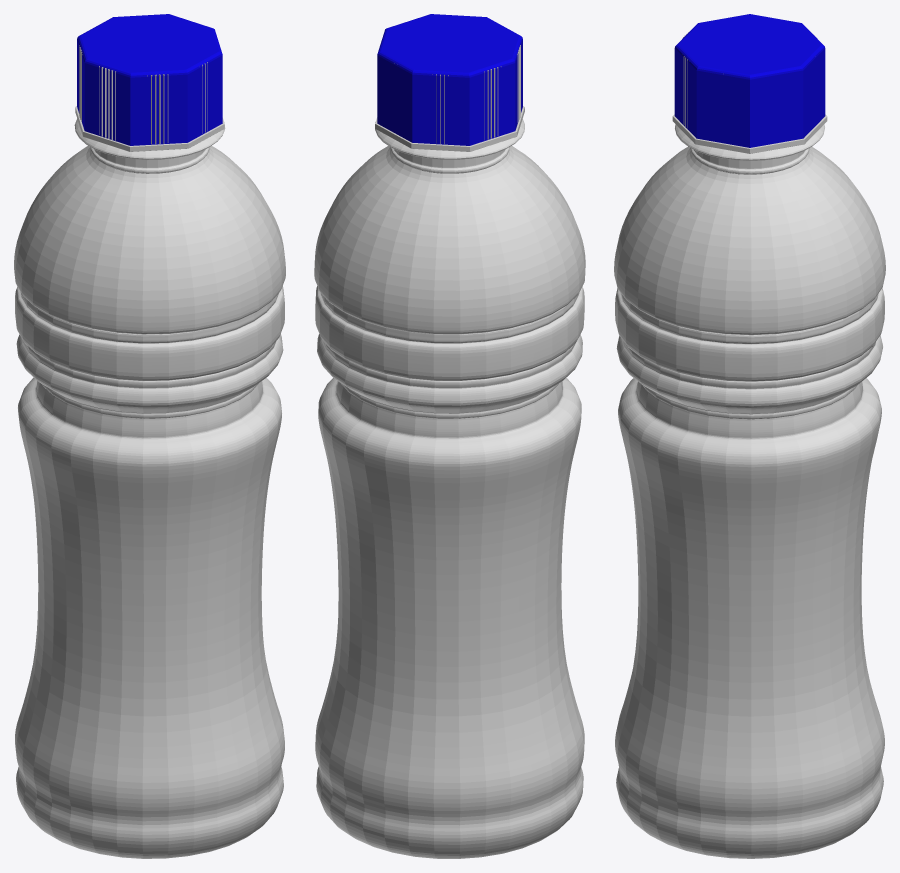
The model's file is botte_t_.fbx.
The picture shows the model from 3 angles, left to right: view 1: azimuth 30°, elevation 25°; view 2: azimuth 150°, elevation 25°; view 3: azimuth 270°, elevation 25°; orthographic projection.
Visible parts, largest first — view 1: waterBottle_OBJ; view 2: waterBottle_OBJ; view 3: waterBottle_OBJ.
Boxes of the visible parts, x1,y1,x2,y2 form: waterBottle_OBJ: (14, 14, 285, 858); waterBottle_OBJ: (314, 14, 585, 858); waterBottle_OBJ: (614, 14, 885, 858).
Size of the model in its own units: 15.85 by 49.47 by 15.85.
